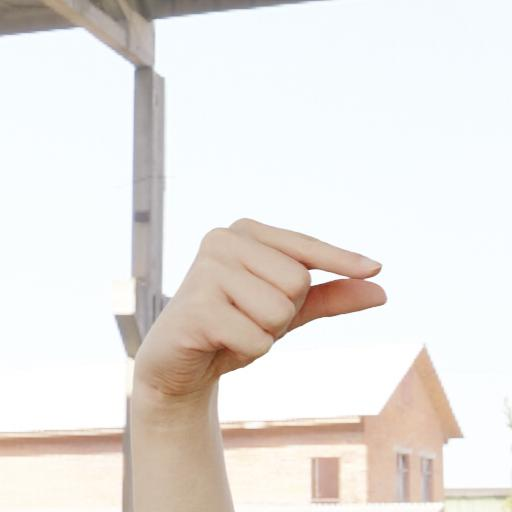G: (115, 200, 394, 408)
